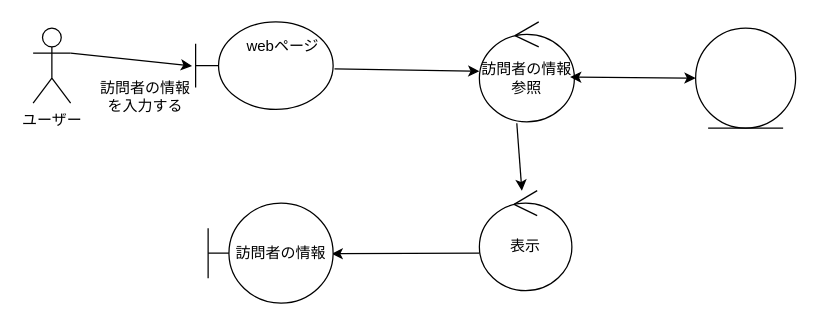
The diagram is 818 pixels wide and 325 high, and some of its shapes have lost their labels. The shapes that lost their labels are listed below. From the top down, each one's box as (x1, y1, x2, y2) in pixels, then its label:
(194, 21, 333, 109): 参照画面
(694, 27, 796, 128): 訪問者
